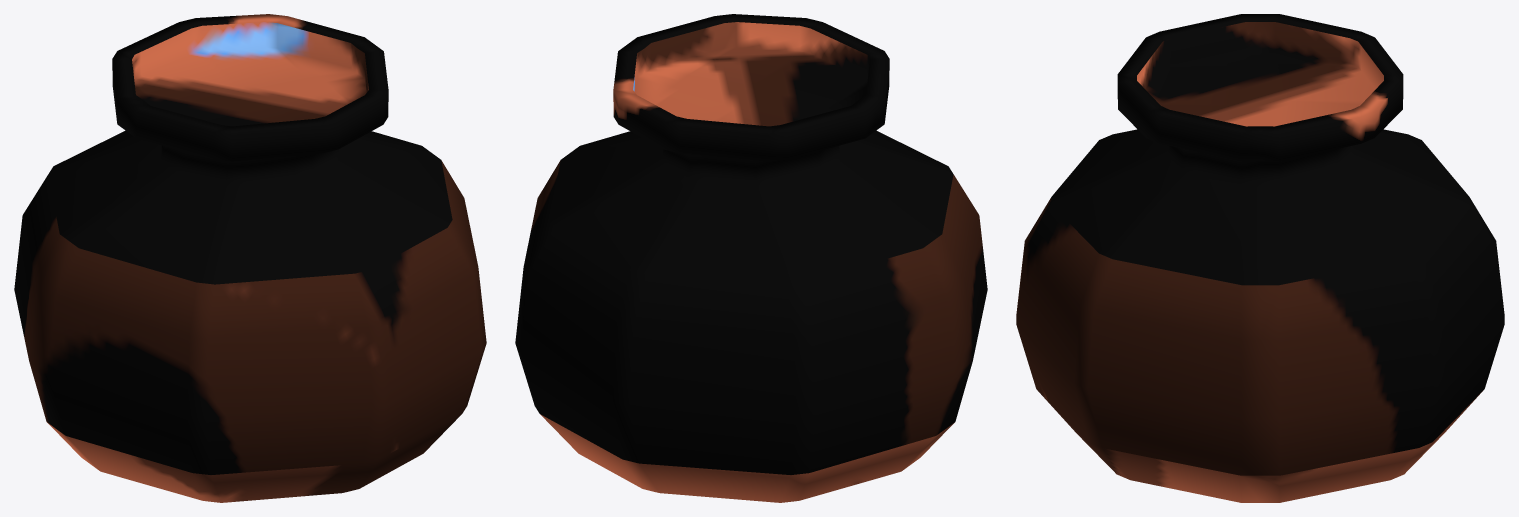
File: Pot Blender.fbx
The picture shows the model from 3 angles, left to right: view 1: azimuth 30°, elevation 25°; view 2: azimuth 150°, elevation 25°; view 3: azimuth 270°, elevation 25°; orthographic projection.
Parts seen in each view (by area): view 1: Pot1; view 2: Pot1; view 3: Pot1.
Part boxes in pixels (x1=…): Pot1: x1=14, y1=14, x2=486, y2=502; Pot1: x1=515, y1=14, x2=987, y2=502; Pot1: x1=1016, y1=14, x2=1504, y2=502.
Size of the model in its own units: 1.49 by 1.3 by 1.49.
